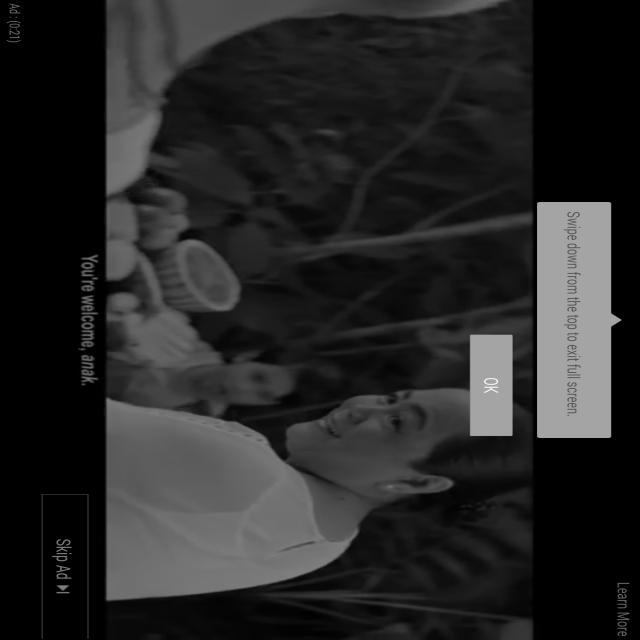Button: (466, 334, 526, 439)
TextView: (38, 497, 96, 632), (560, 204, 594, 422), (78, 255, 105, 391), (611, 576, 638, 639)
